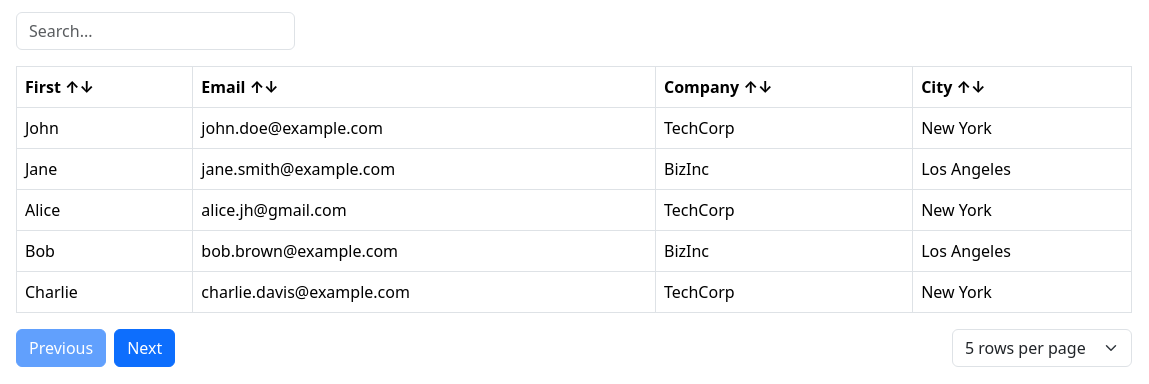
Test: UserTable › Next button test on pagination
Step 1. Click the button "Next" → x=145, y=348, box top-left (114, 329), bottom-right (175, 367)
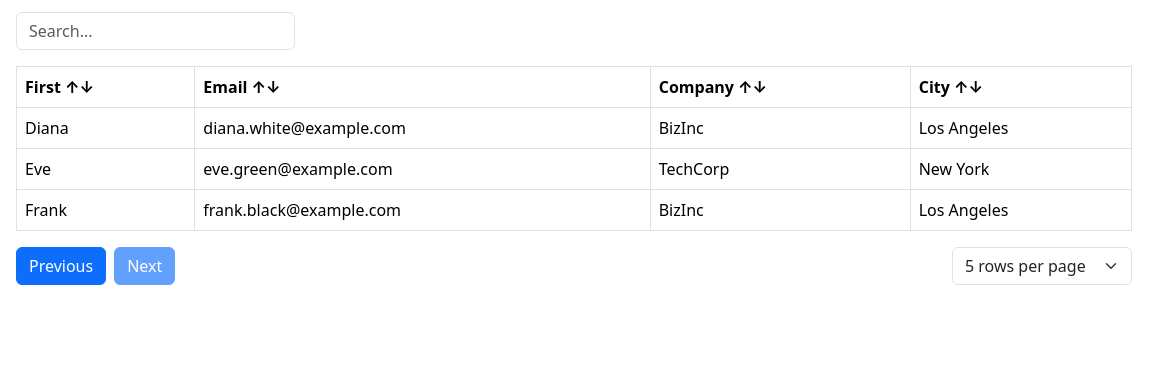
Expected: the text "Diana" is shown, top-left (16, 108), bottom-right (195, 148)
